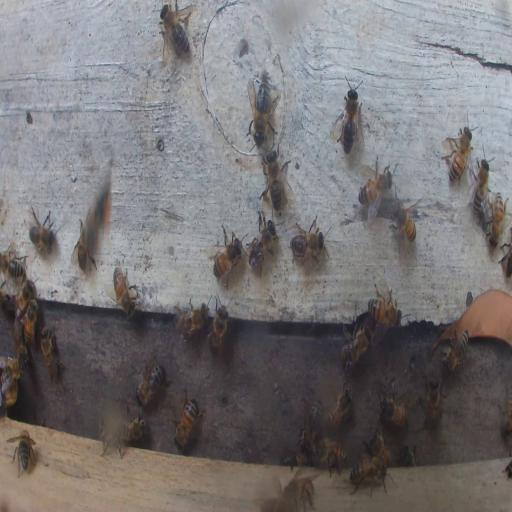bee: (335, 79, 363, 152), (88, 170, 114, 244), (262, 147, 292, 211), (444, 124, 474, 184), (212, 226, 243, 284), (159, 3, 192, 57), (247, 214, 278, 269), (289, 218, 327, 262), (249, 74, 274, 140), (39, 324, 65, 385), (359, 164, 392, 208), (390, 195, 419, 244), (175, 396, 201, 450), (8, 426, 36, 476), (72, 214, 96, 272), (350, 458, 386, 496), (135, 361, 166, 404), (112, 264, 136, 318), (435, 327, 468, 366), (341, 324, 370, 368), (174, 301, 206, 339), (325, 384, 352, 429), (471, 156, 491, 216), (119, 403, 147, 445), (27, 210, 55, 252), (206, 301, 228, 354), (286, 473, 316, 511), (424, 376, 445, 428), (315, 438, 347, 472), (300, 400, 320, 454), (0, 356, 21, 406), (366, 428, 391, 468), (1, 244, 27, 281), (368, 299, 400, 328), (380, 394, 406, 426), (498, 380, 512, 439), (489, 192, 504, 246), (13, 278, 35, 314), (23, 301, 38, 346), (502, 230, 512, 278), (398, 443, 418, 465), (281, 451, 303, 468), (14, 346, 28, 369), (1, 291, 12, 313)
